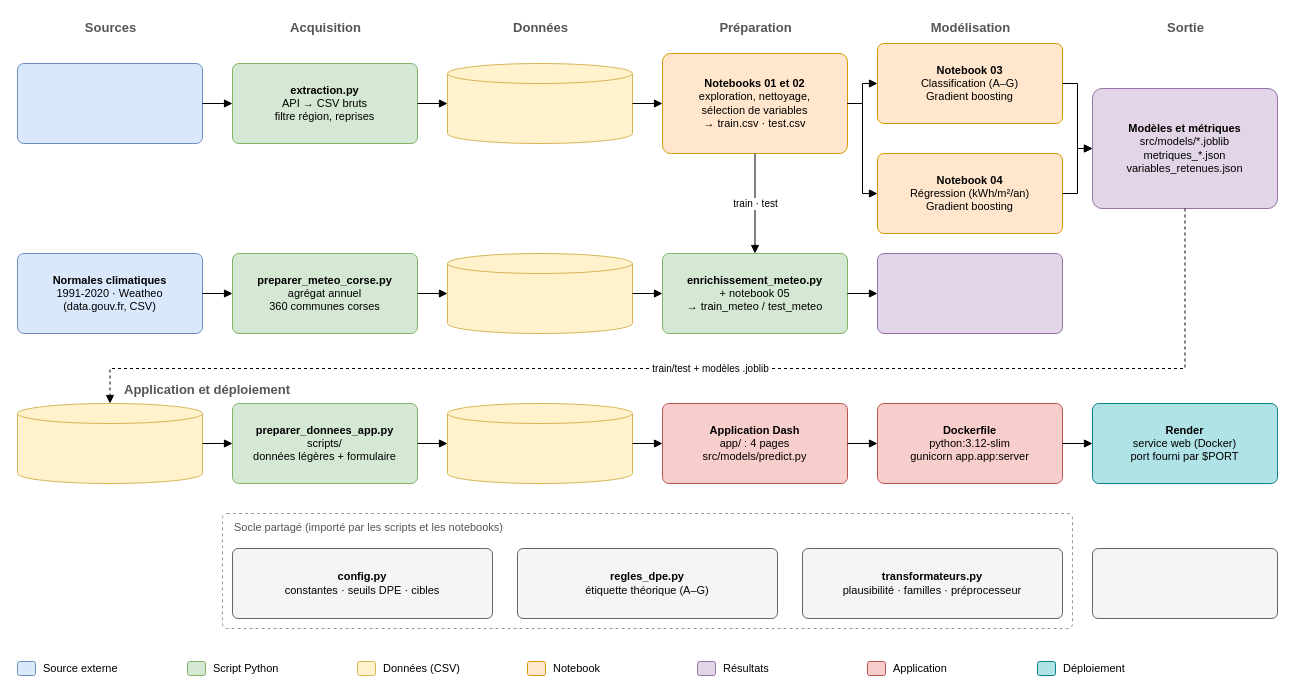
Some shapes in this 1295 by 695 pixel diagram are drawn without their labels. Here are the shapes that lost their labels. From the top down, the centre of each, then its label:
point 109,103: API ADEME data-fair dpe03existant · dpe02neuf
point 539,103: data/raw dpe_existant.csv dpe_neuf.csv
point 539,293: data/processed meteo_corse_communes.csv
point 969,293: decision_meteo.json classification : gain faible régression : non retenue
point 109,443: Entrées de l'application train.csv · test.csv modèles .joblib
point 539,443: app/data logements_app.csv.gz formulaire.json
point 1185,583: tests/ test_transformateurs.py test_meteo.py
